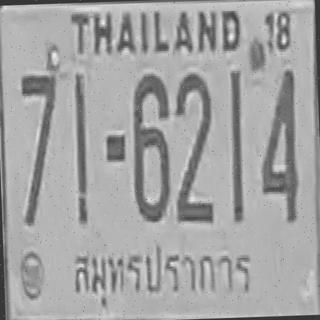N01: (228, 69, 246, 221), (73, 72, 89, 223)
N02: (171, 70, 215, 223)
N04: (257, 68, 300, 222)
N06: (130, 72, 172, 222)
N07: (19, 73, 61, 225), (20, 73, 59, 194)
P57: (67, 232, 257, 311)
